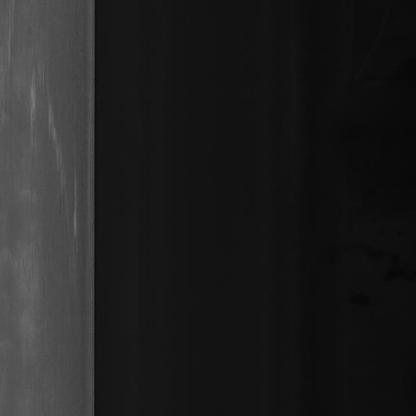silk_spot: (5, 52, 81, 276)
